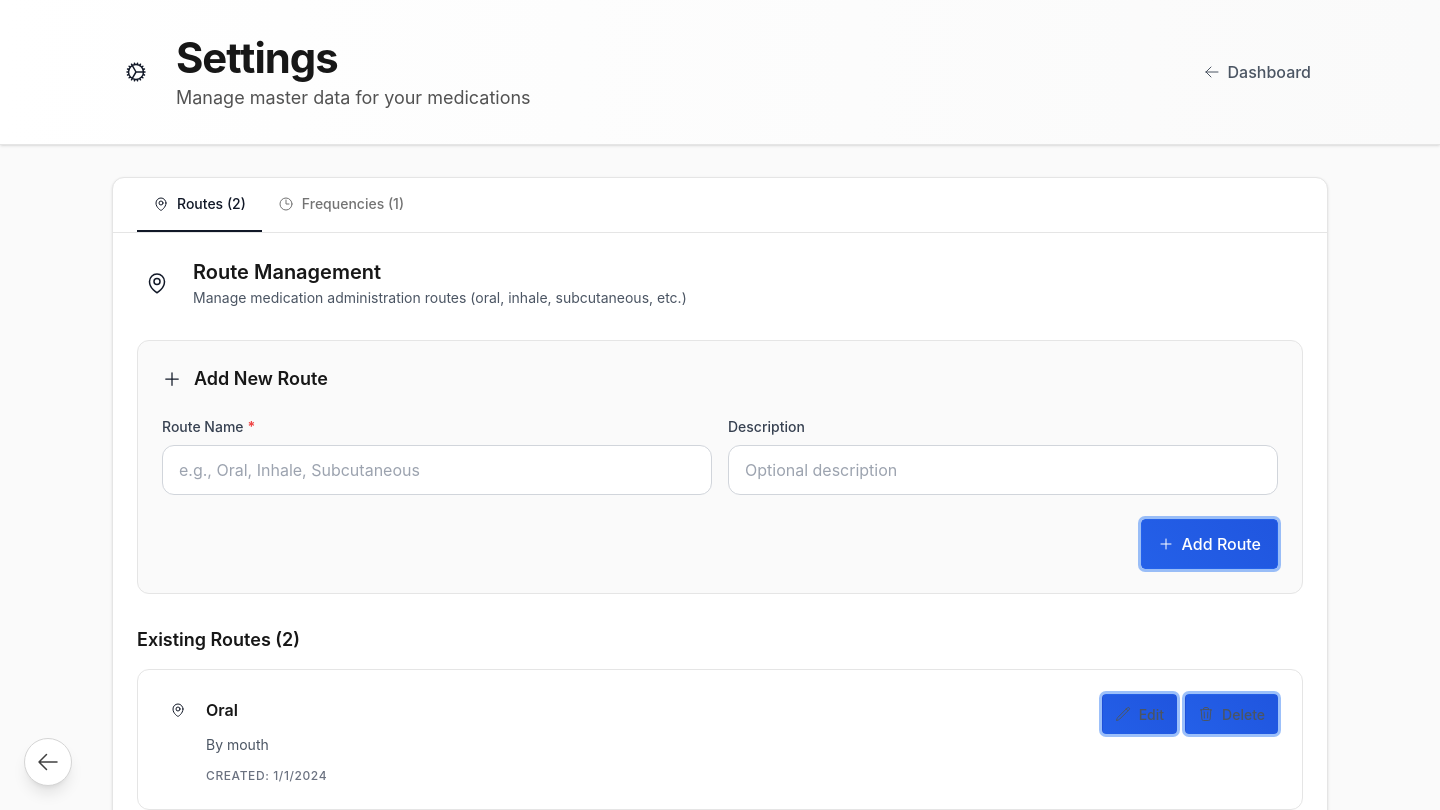
Scenario: Settings Component › Route Management › cancels route editing
Check: the heading "Oral" is shown, box [206,698,238,722]
// Click edit button
Click the button "Edit" at [1139, 714], box [1102,694,1177,734]
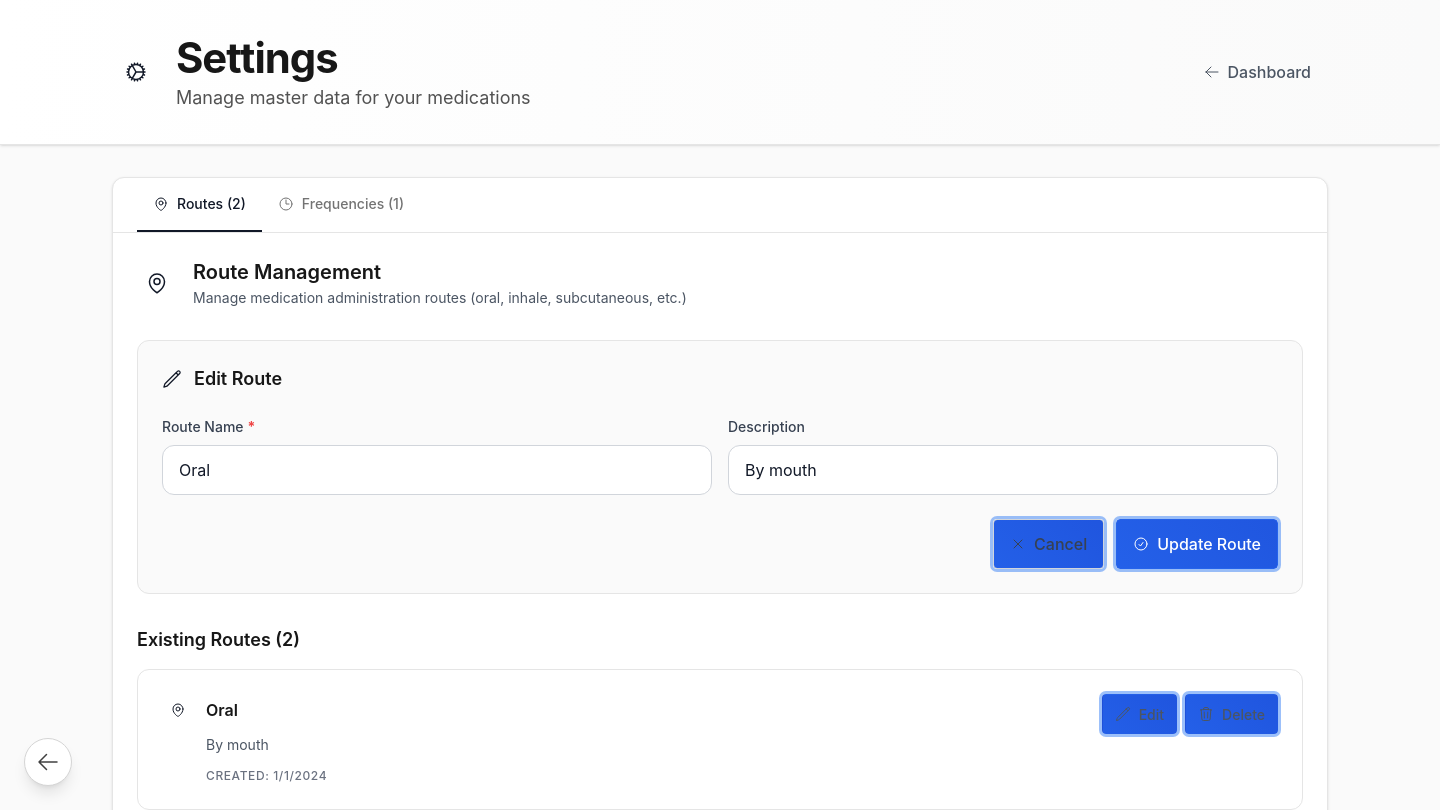
Check: the heading "Edit Route" is shown, box [194,365,282,392]
// Click cancel
Click the button "Cancel" at [1049, 544], box [993,519,1104,569]
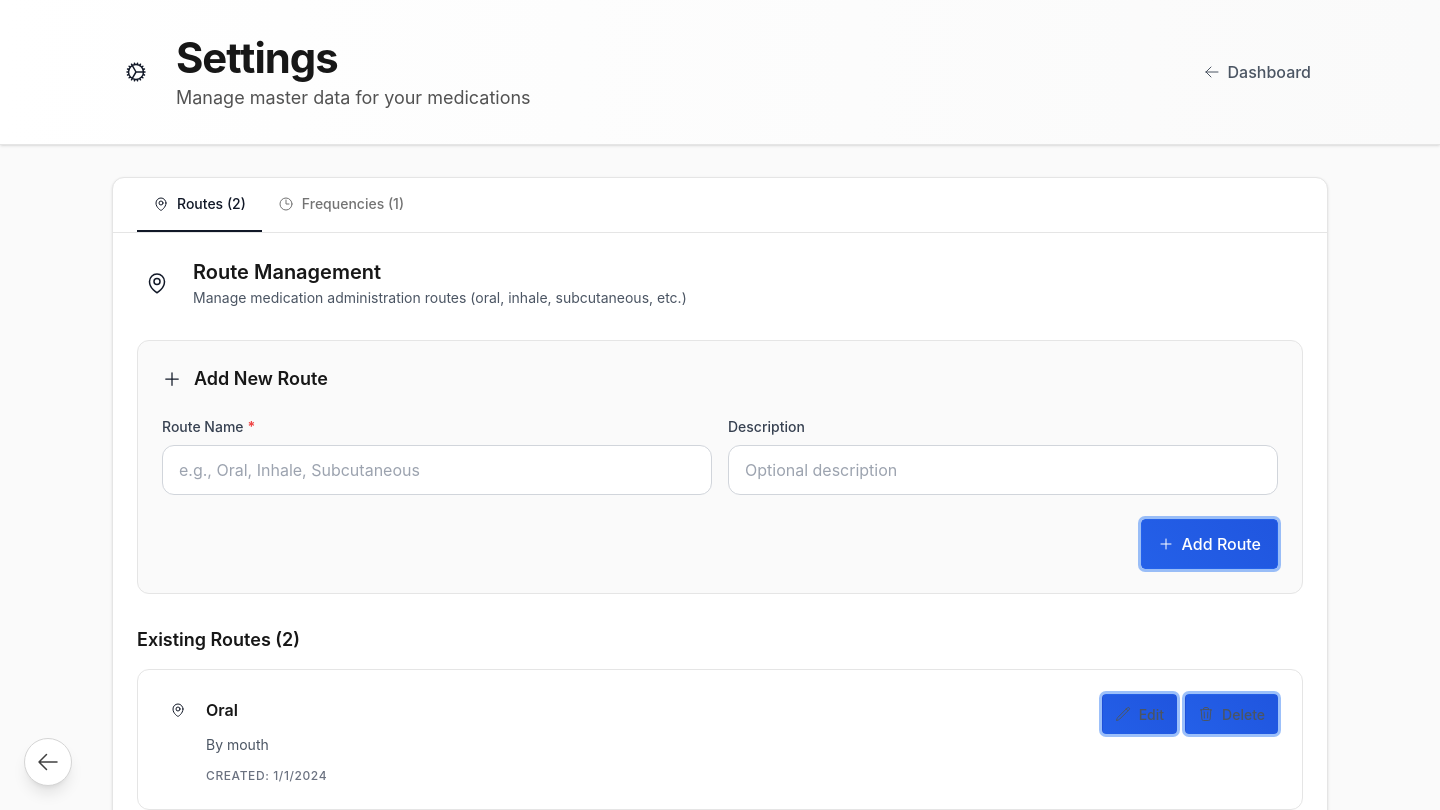
Check: the heading "Add New Route" is shown, box [194,365,328,392]
Check: the heading "Edit Route" is gone
